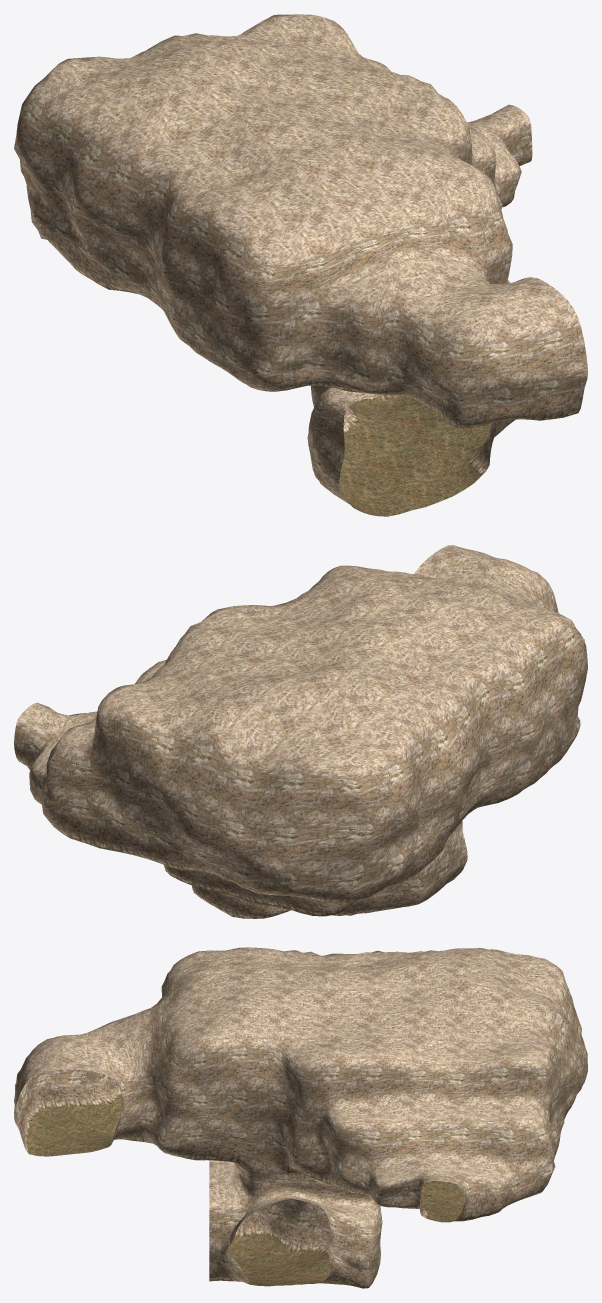
File: thm_all_cave_s01_r8_mesh_r8.fbx
3 renders of one model, top to bottom at view 1: azimuth 30°, elevation 25°; view 2: azimuth 150°, elevation 25°; view 3: azimuth 270°, elevation 25°, orthographic. The views are drawn at different scales.
Visible parts, largest first — view 1: mesh_node; view 2: mesh_node; view 3: mesh_node.
Part boxes in pixels (x1,y1,x2,y2): mesh_node: (14, 14, 587, 516); mesh_node: (14, 545, 587, 918); mesh_node: (14, 947, 587, 1288).
Bounding box in the file's own units: 94.34 × 69.23 × 131.
